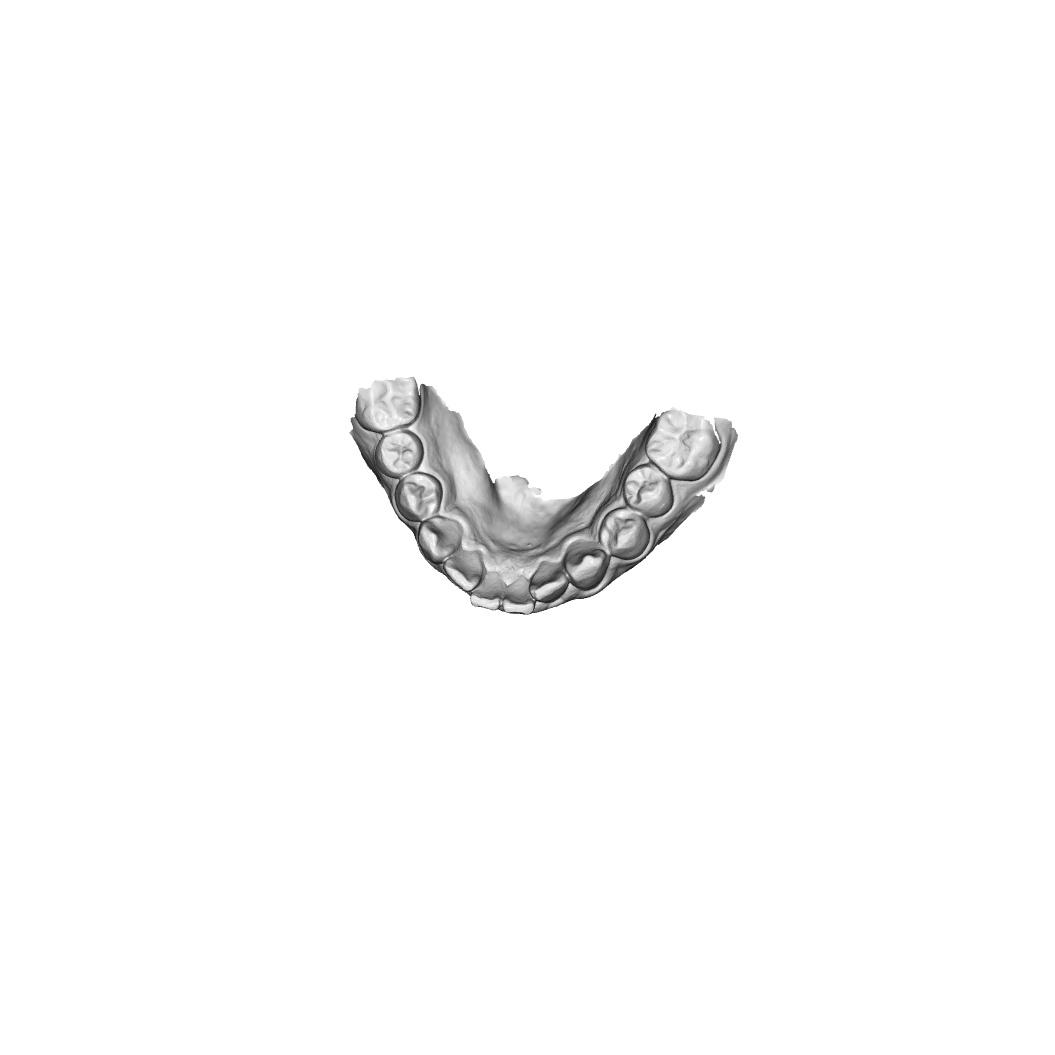canine: (562, 538, 610, 592), (417, 515, 464, 566)
incisor: (442, 549, 484, 593), (529, 561, 570, 604), (468, 571, 503, 612), (503, 574, 536, 616)
molar: (644, 408, 722, 482), (355, 370, 421, 435)
premolar: (621, 463, 676, 519), (598, 506, 651, 561), (394, 470, 444, 523), (373, 429, 425, 479)
